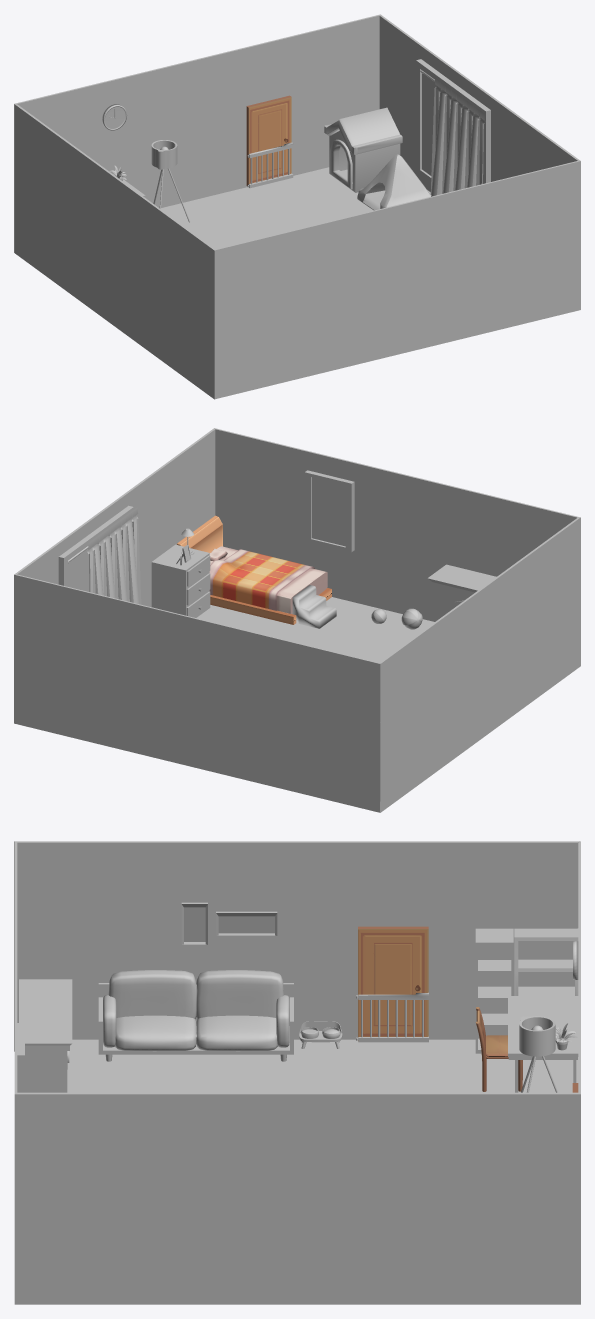
The model's file is 마이홈 배치 240927.fbx.
3 views of the same model, one above another, from view 1: azimuth 30°, elevation 25°; view 2: azimuth 150°, elevation 25°; view 3: azimuth 270°, elevation 25° (orthographic). The views are drawn at different scales.
Visible parts, largest first — view 1: Wall.01, Wall.03, Wall.02, Wall.04, MyHome, House1, Door, Window1, House2, Plane005, Plane006, Plane004 (+5 smaller); view 2: Wall.03, Wall.01, Wall.02, Wall.04, Bed, MyHome, nightstand, Window2, FirePlace2, Window1, Stair, Plane003 (+3 smaller); view 3: Wall.04, Wall.02, MyHome, Sofa, ToiletDoor, FirePlace2, Bookshelf big, Bookshelf small, High table, Post.001, RoundLight, FanceDoor001 (+4 smaller).
Part boxes in pixels (<box>): Wall.01: <box>214,161,580,399</box>; Wall.03: <box>14,14,380,252</box>; Wall.02: <box>14,104,215,399</box>; Wall.04: <box>379,14,580,191</box>; MyHome: <box>161,167,373,249</box>; House1: <box>324,107,402,192</box>; Door: <box>246,95,291,185</box>; Window1: <box>416,59,490,183</box>; House2: <box>357,154,431,210</box>; Plane005: <box>430,77,447,196</box>; Plane006: <box>442,85,458,193</box>; Plane004: <box>453,93,469,190</box>; Wall.03: <box>14,574,380,812</box>; Wall.01: <box>214,428,579,621</box>; Wall.02: <box>380,517,580,812</box>; Wall.04: <box>14,428,215,607</box>; Bed: <box>177,515,331,624</box>; MyHome: <box>196,597,434,812</box>; nightstand: <box>151,544,210,617</box>; Window2: <box>304,470,354,552</box>; FirePlace2: <box>427,564,496,619</box>; Window1: <box>58,505,133,591</box>; Stair: <box>292,585,336,628</box>; Plane003: <box>120,511,139,603</box>; Wall.04: <box>14,1092,580,1304</box>; Wall.02: <box>14,841,579,1051</box>; MyHome: <box>69,1039,578,1092</box>; Sofa: <box>98,970,293,1061</box>; ToiletDoor: <box>358,926,428,1040</box>; FirePlace2: <box>19,979,72,1092</box>; Bookshelf big: <box>514,928,578,995</box>; Bookshelf small: <box>475,928,513,1053</box>; High table: <box>508,996,578,1092</box>; Post.001: <box>181,902,277,944</box>; RoundLight: <box>519,1016,557,1092</box>; FanceDoor001: <box>356,992,428,1042</box>.
Size of the model in its own units: 3097 by 1202 by 2935.
